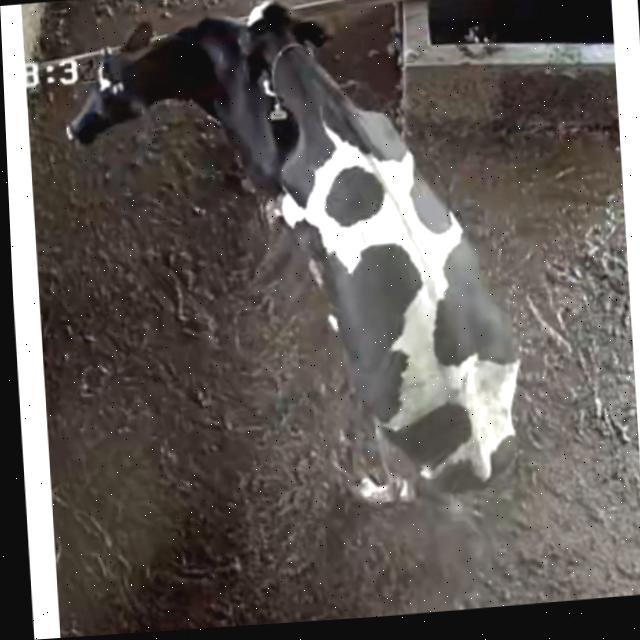ride: (227, 0, 577, 546)
